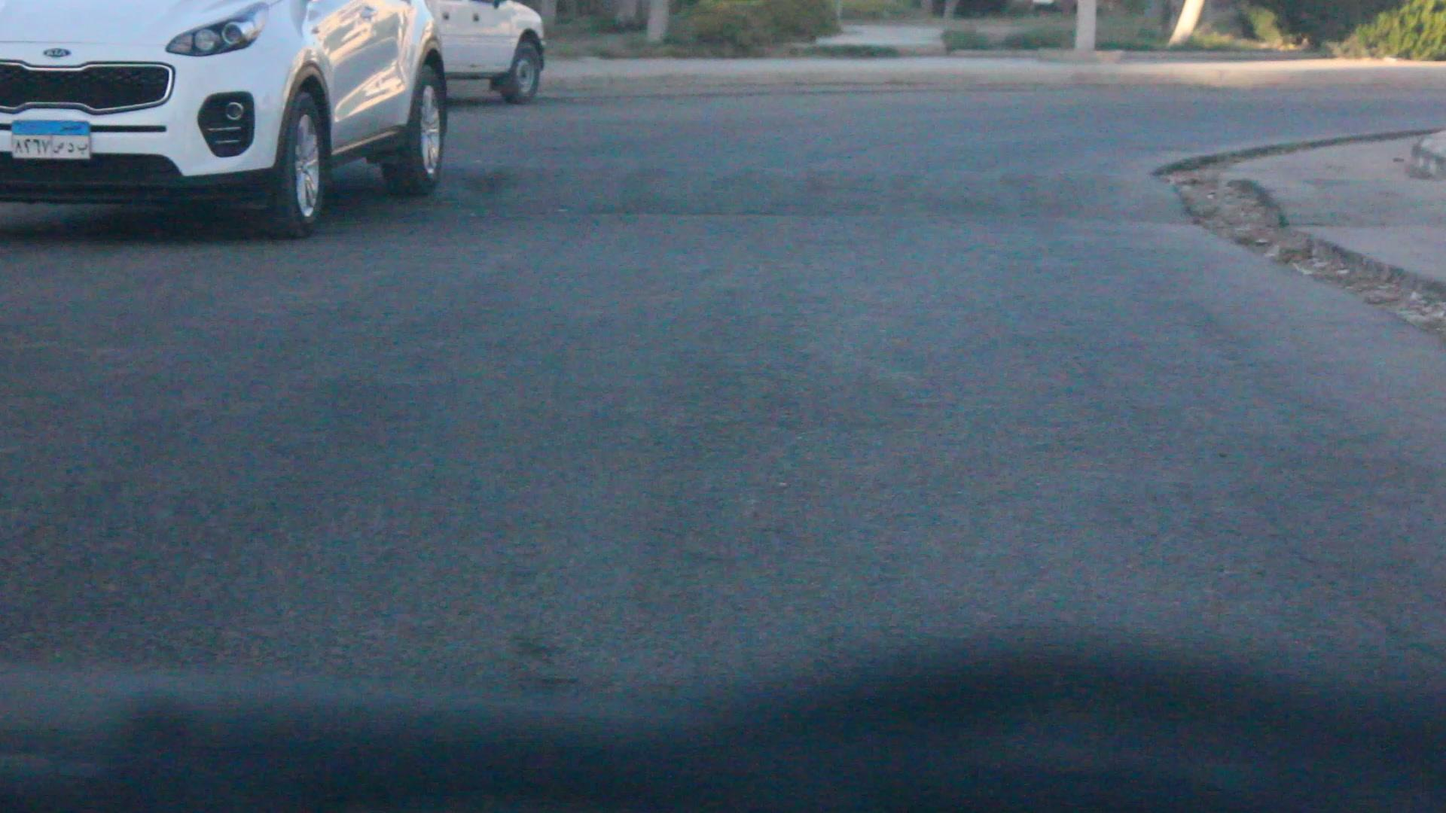Bump: (422, 147, 1186, 245)
